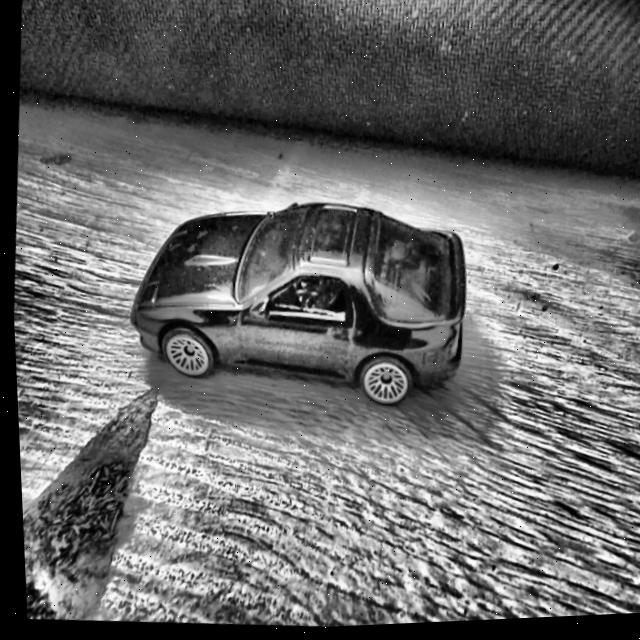car: (117, 184, 473, 423)
